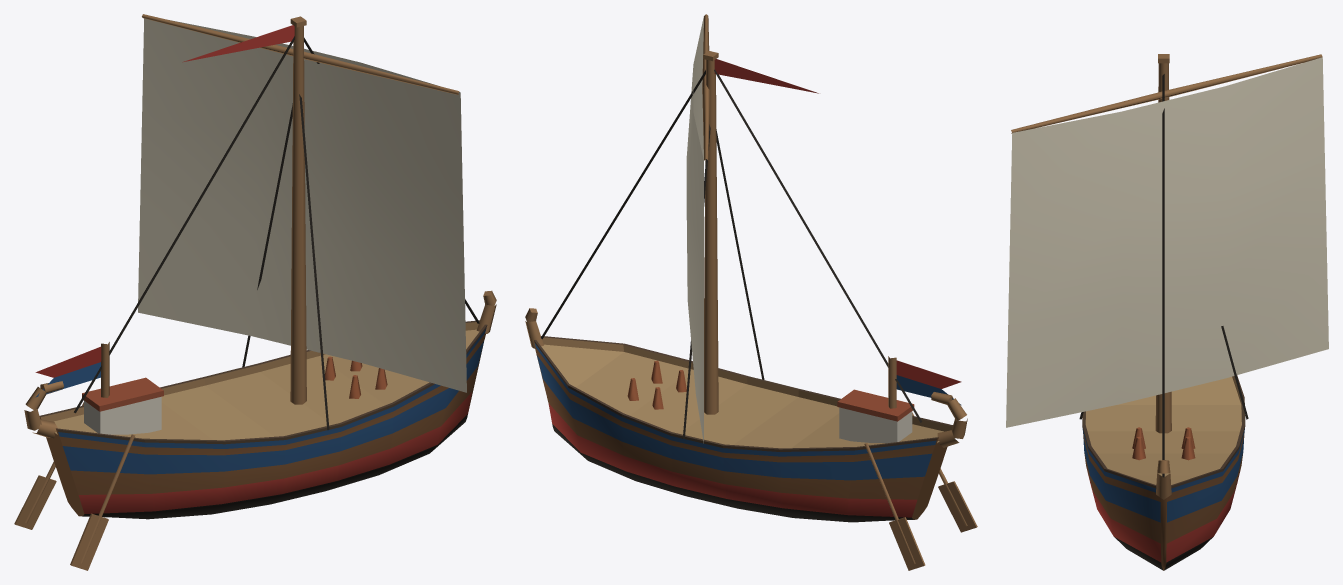
Rendered from hull_usd_coaster_boat.glb.
3 views of the same model, side by side, from view 1: azimuth 30°, elevation 25°; view 2: azimuth 150°, elevation 25°; view 3: azimuth 270°, elevation 25° (orthographic). The views are drawn at different scales.
Visible parts, largest first — view 1: sail_main, hull, deck, mast, rigging, flag, yards; view 2: hull, deck, sail_main, mast, rigging, flag, yards; view 3: sail_main, hull, yards, rigging, mast, deck.
Part boxes in pixels (x1=…): sail_main: x1=138, y1=18, x2=466, y2=392; hull: x1=24, y1=290, x2=496, y2=519; deck: x1=14, y1=356, x2=387, y2=570; mast: x1=101, y1=16, x2=306, y2=404; rigging: x1=74, y1=36, x2=479, y2=430; flag: x1=35, y1=25, x2=294, y2=397; yards: x1=142, y1=14, x2=459, y2=94; hull: x1=525, y1=308, x2=967, y2=522; deck: x1=627, y1=360, x2=977, y2=570; sail_main: x1=686, y1=16, x2=703, y2=443; mast: x1=703, y1=51, x2=896, y2=414; rigging: x1=541, y1=69, x2=922, y2=438; flag: x1=714, y1=59, x2=961, y2=405; yards: x1=702, y1=14, x2=709, y2=160; sail_main: x1=1006, y1=57, x2=1328, y2=427; hull: x1=1082, y1=375, x2=1245, y2=570; yards: x1=1011, y1=54, x2=1322, y2=133; rigging: x1=1079, y1=74, x2=1248, y2=477; mast: x1=1155, y1=54, x2=1171, y2=433; deck: x1=1132, y1=427, x2=1195, y2=460.
Size of the model in its own units: 8.04 by 7.7 by 4.86.
